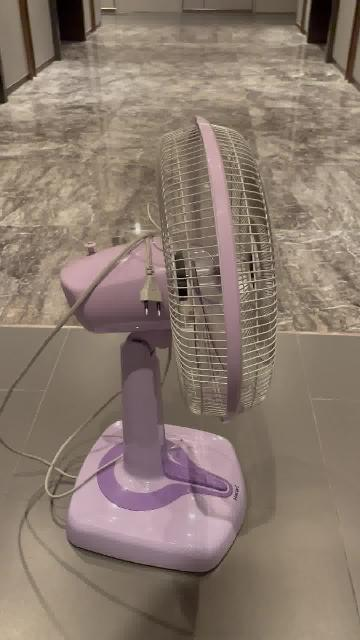Fan: (60, 116, 277, 576)
